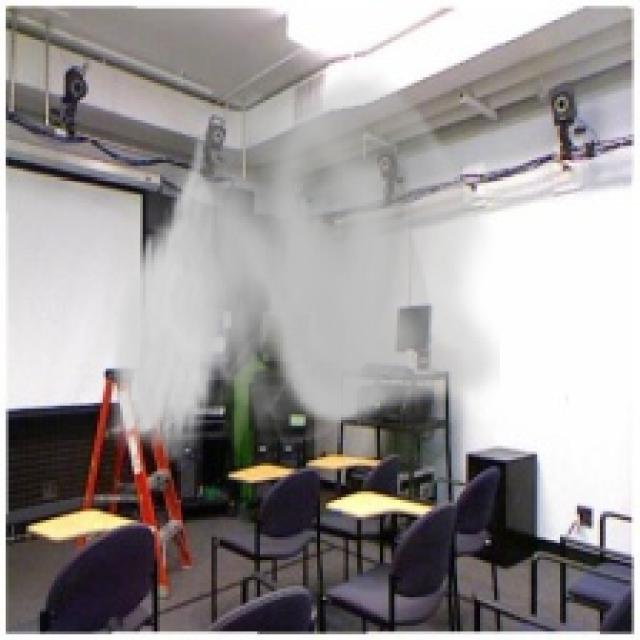smoke: (103, 63, 500, 471)
